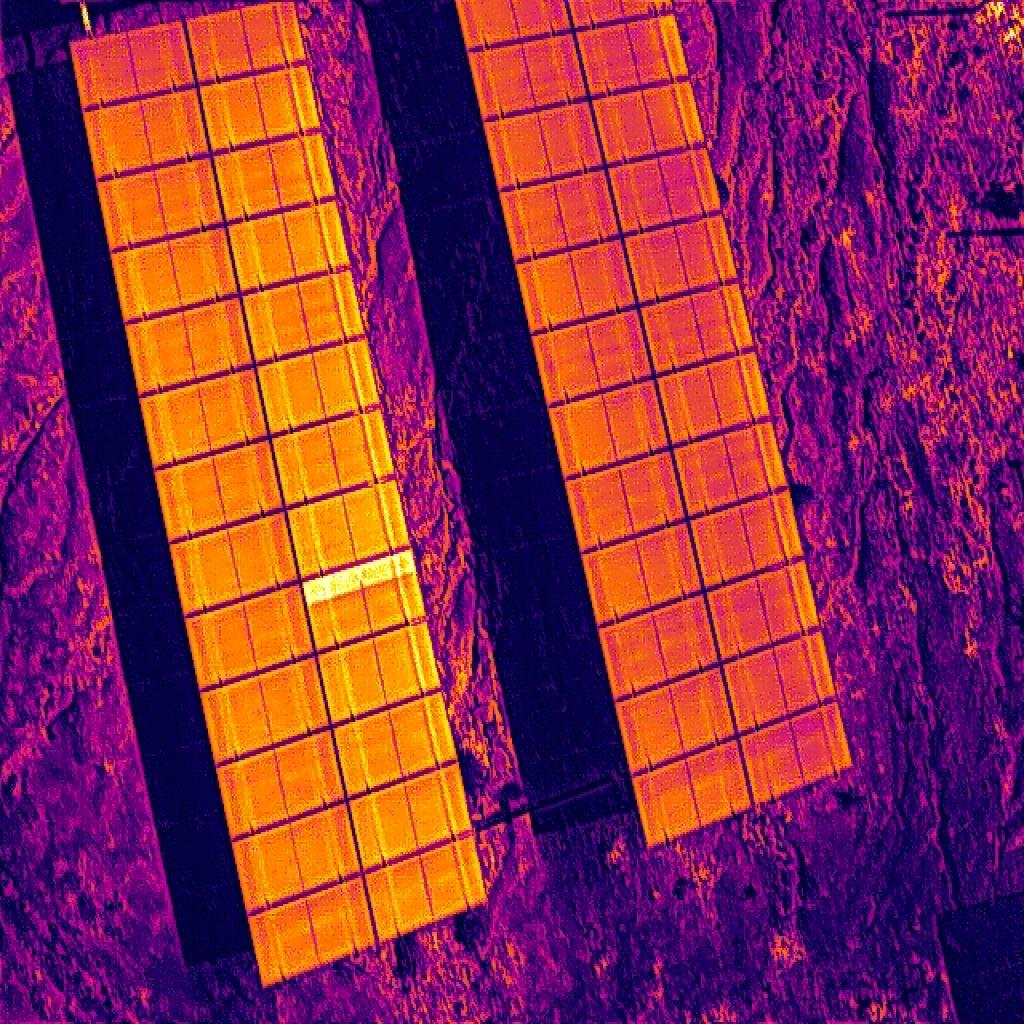panel: (127, 295, 252, 395), (482, 100, 606, 188), (658, 352, 771, 447), (624, 213, 735, 304)
